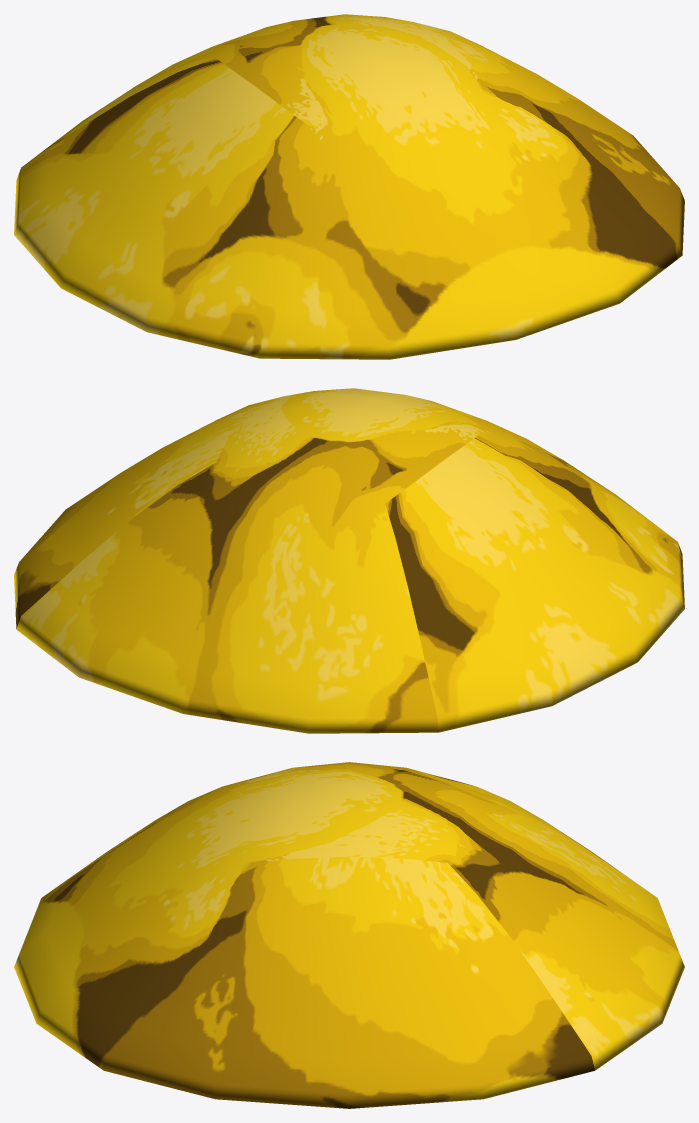
Rendered from lemonzest.fbx.
3 views of the same model, one above another, from view 1: azimuth 30°, elevation 25°; view 2: azimuth 150°, elevation 25°; view 3: azimuth 270°, elevation 25° (orthographic).
Visible parts, largest first — view 1: polySurface3; view 2: polySurface3; view 3: polySurface3.
Part boxes in pixels (box(x1,y1,x2,y2)): polySurface3: box(14, 14, 684, 359); polySurface3: box(14, 388, 684, 733); polySurface3: box(14, 762, 684, 1108).
Bounding box in the file's own units: 5.23 × 1.66 × 5.23.
